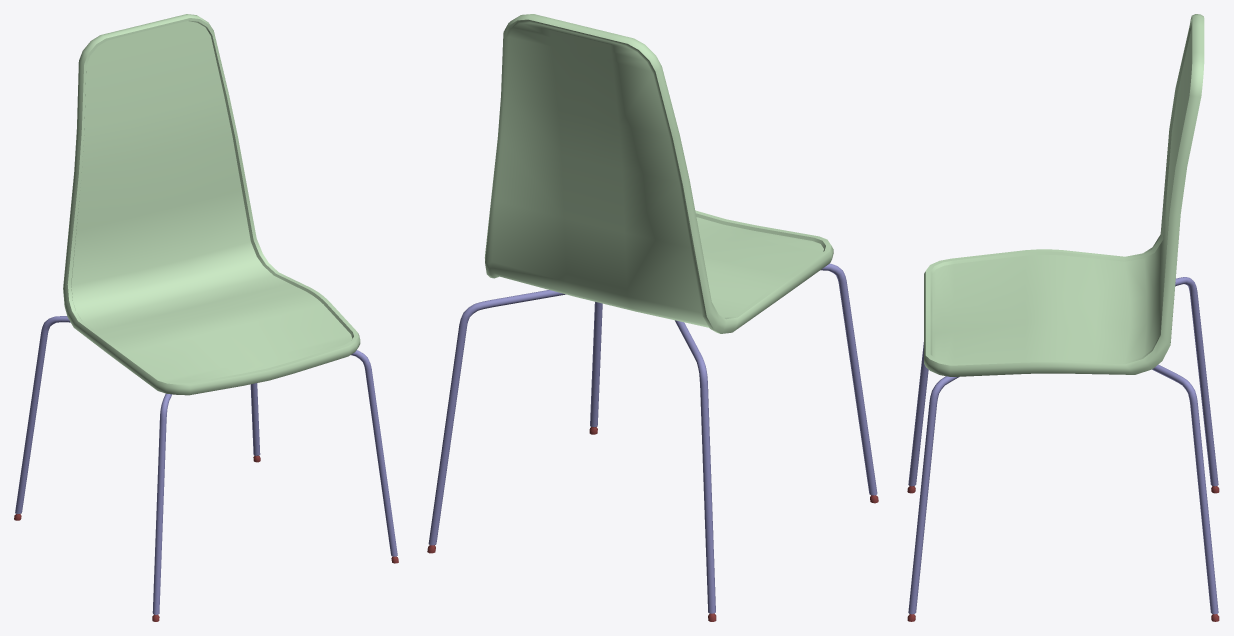
File: LinusChair.FBX
3 views of the same model, side by side, from view 1: azimuth 30°, elevation 25°; view 2: azimuth 150°, elevation 25°; view 3: azimuth 270°, elevation 25° (orthographic). The views are drawn at different scales.
Visible parts, largest first — view 1: LinusChair; view 2: LinusChair; view 3: LinusChair.
Part boxes in pixels (box(x1,y1,x2,y2)): LinusChair: box(14, 14, 398, 621); LinusChair: box(427, 14, 878, 621); LinusChair: box(907, 14, 1219, 621).
Bounding box in the file's own units: 51 × 51 × 93.32.
